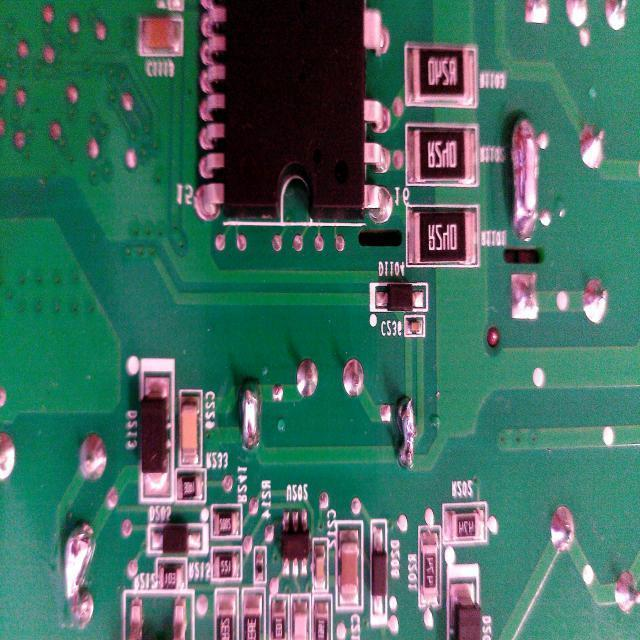Soldering shorted: (508, 105, 542, 246), (61, 518, 98, 628), (234, 374, 264, 452), (395, 389, 420, 470)
